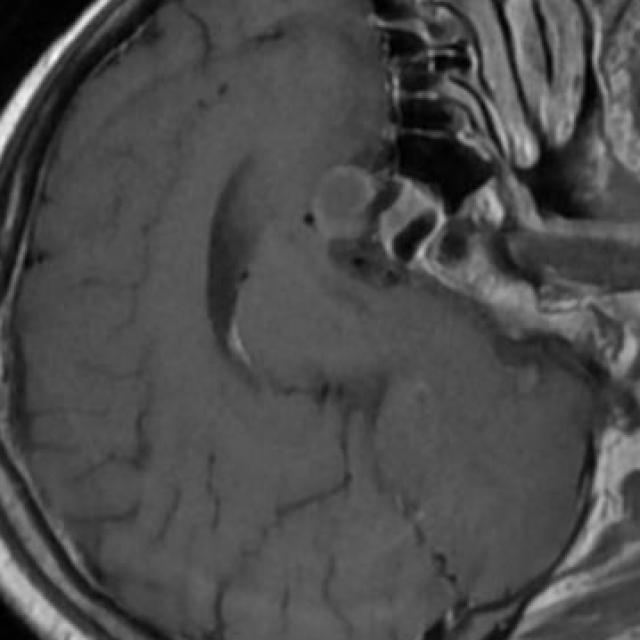pituitary: (314, 168, 378, 242)
